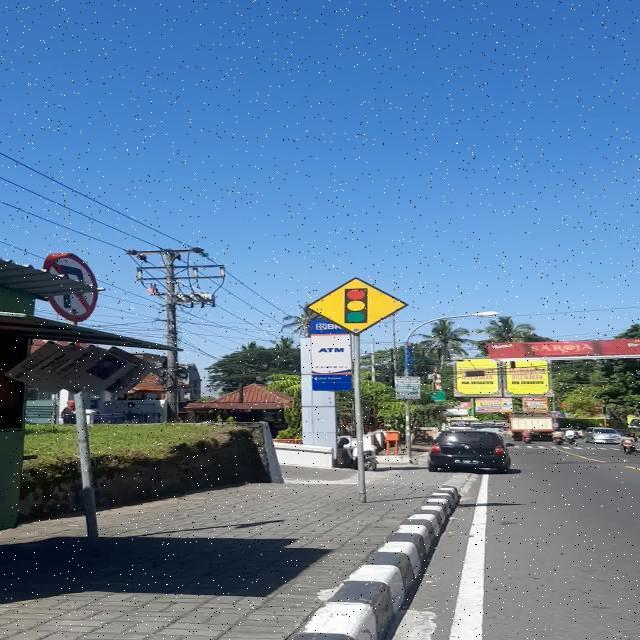Lampu Lalu Lintas: (307, 278, 409, 336)
